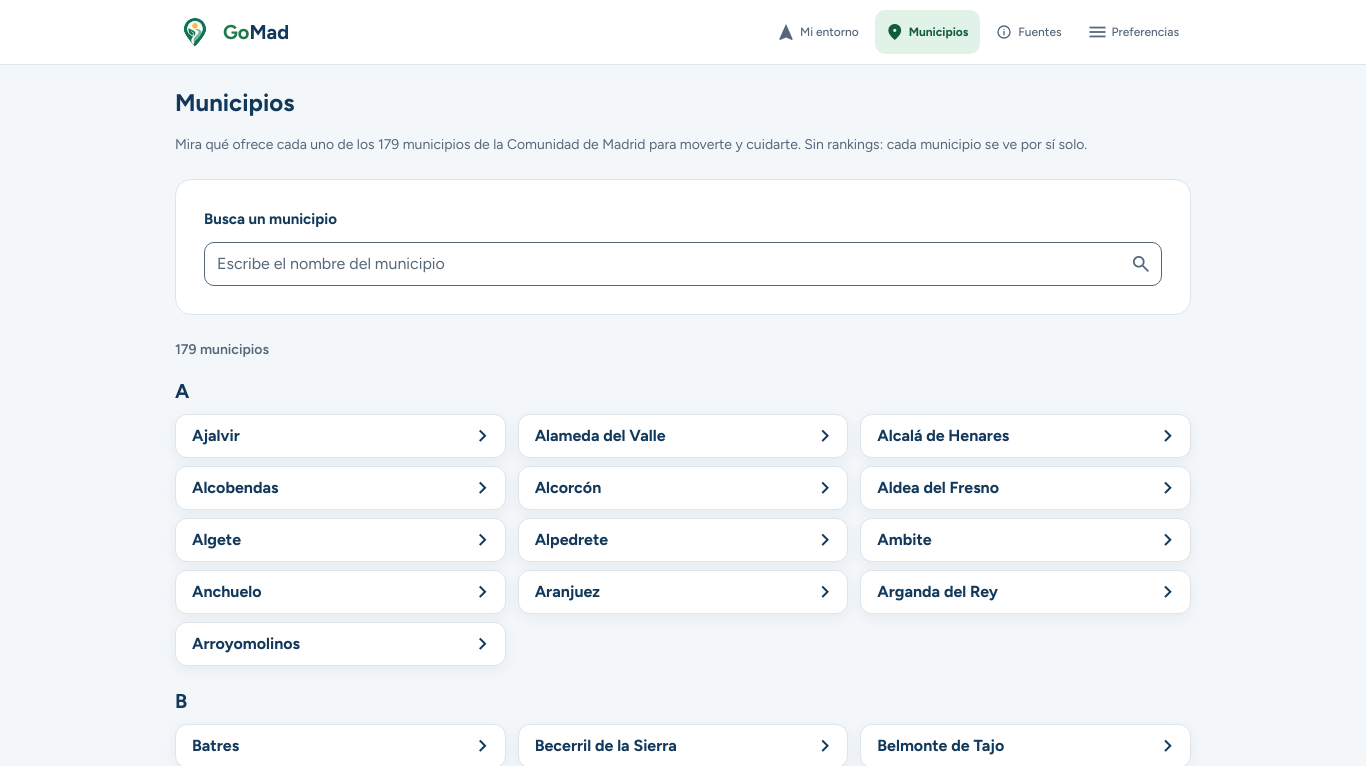
it: diseno comun › abre Fuentes desde la navegacion principal sin mostrar el pie
The image size is (1366, 766).
Click the link "Fuentes" at x=1029, y=32, box [996,24,1062,40]
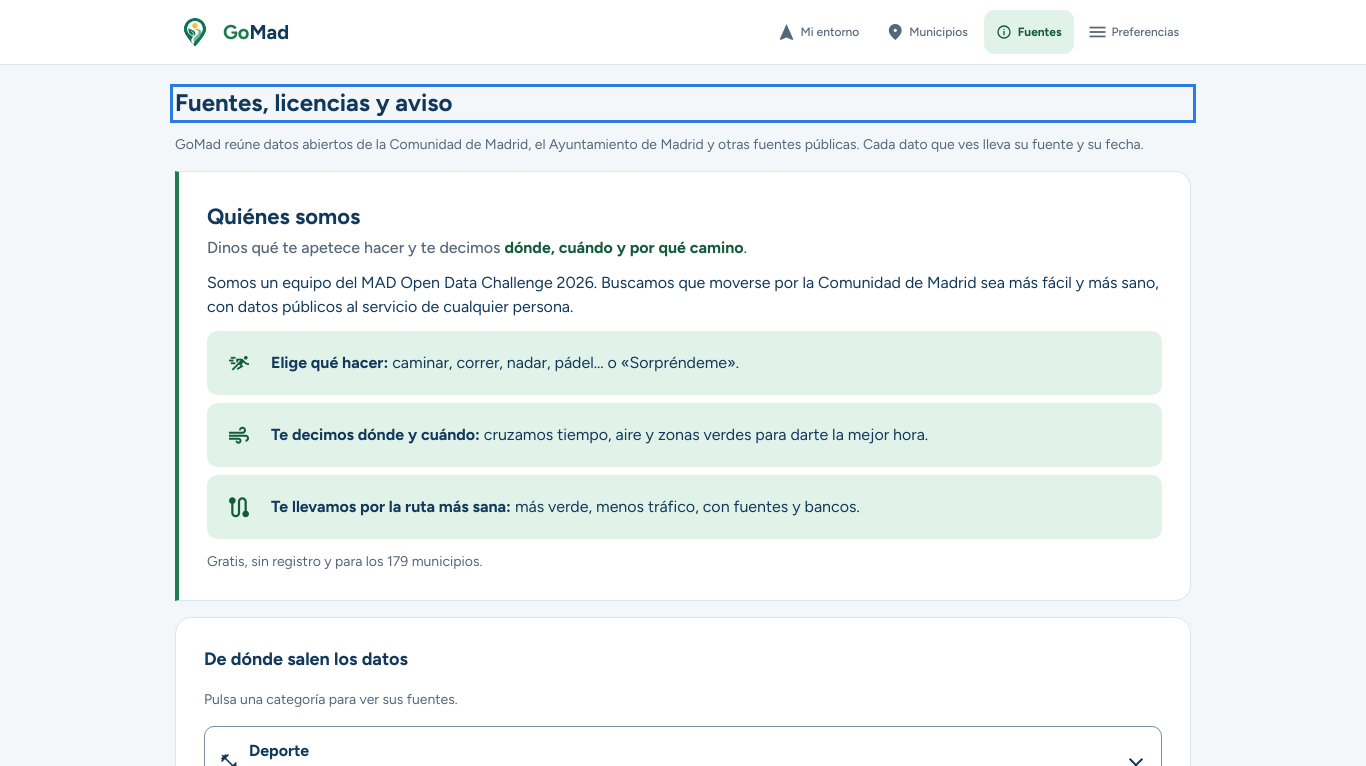
expect the heading "Fuentes, licencias y aviso" is shown: met, box [175,88,452,117]
